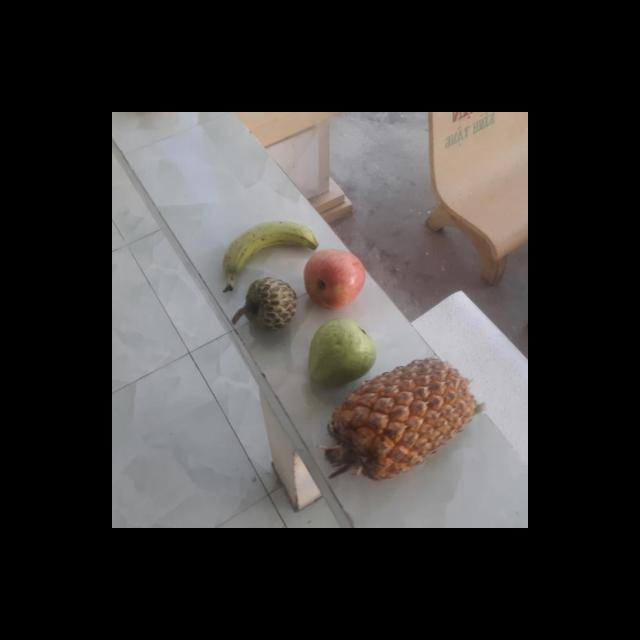Sakya fruit: (240, 277, 302, 331)
apple: (304, 250, 368, 308)
banana: (222, 221, 326, 292)
guava: (308, 318, 378, 388)
pineapple: (329, 358, 479, 482)
